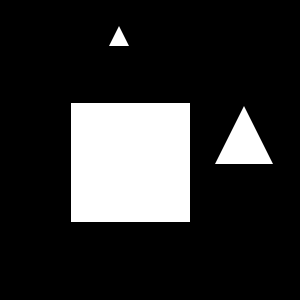circle: (71, 103, 190, 222)
triangle: (215, 106, 273, 164), (109, 26, 129, 46)
